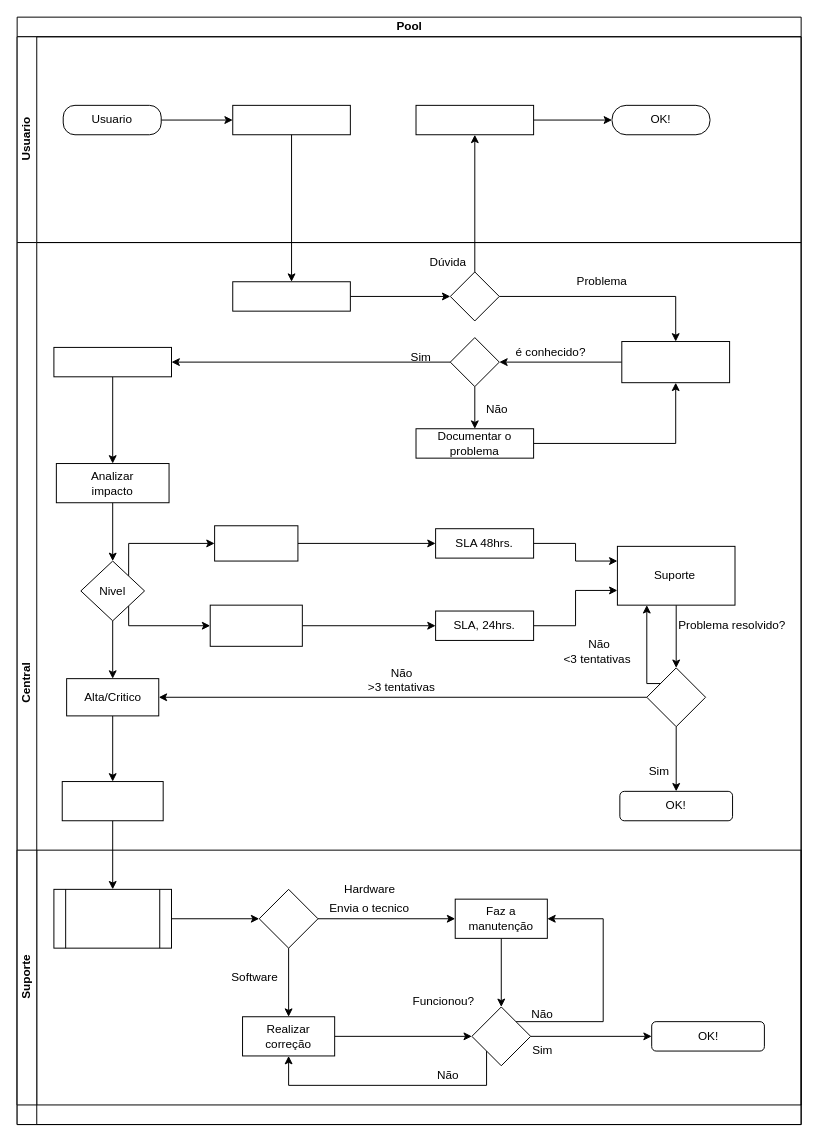
Some shapes in this 818 by 1142 pixel diagram are drawn without their labels. The shapes that lost their labels are listed below. From the top down, each one's centre as x and y in pixels, then its label:
At pixel 291 119: "Abre um chamado".
At pixel 474 119: "Informação esclarecida".
At pixel 291 296: "Analisa o chamado".
At pixel 112 361: "Classificar".
At pixel 675 362: "Proucura na base de erros conhecidos".
At pixel 256 543: "Baixo".
At pixel 255 625: "Médio".
At pixel 112 801: "SLA,entre 1hrs a 4hrs.".
At pixel 112 918: "Suporte especializado".
